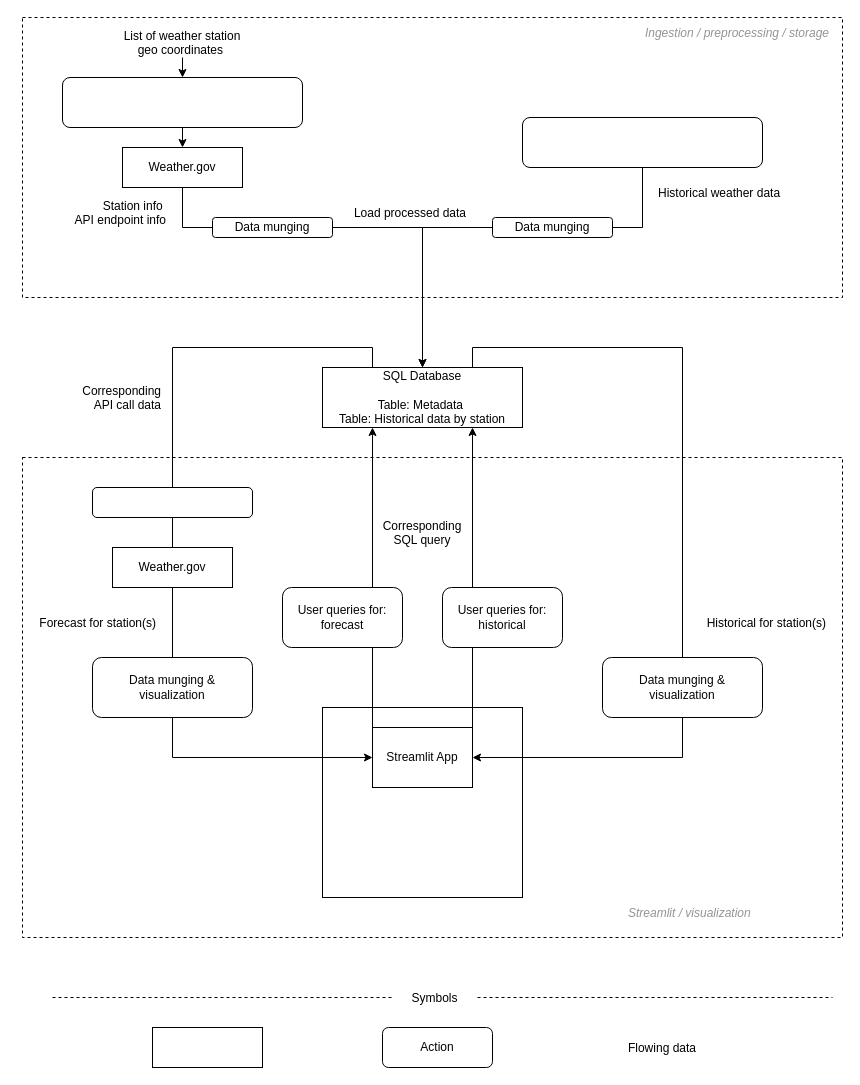
Image size: 860x1085. Some labels were removed from this diagram. Here are the shapes that lost their labels. From the top down, the box of each, then its label:
(62, 76, 302, 128): API Call for Metadata
(522, 116, 762, 168): location based historical weather data download from NOAA
(92, 486, 252, 518): API call for forecast
(322, 706, 522, 898): Streamlit Cloud
(152, 1026, 262, 1068): Entity
